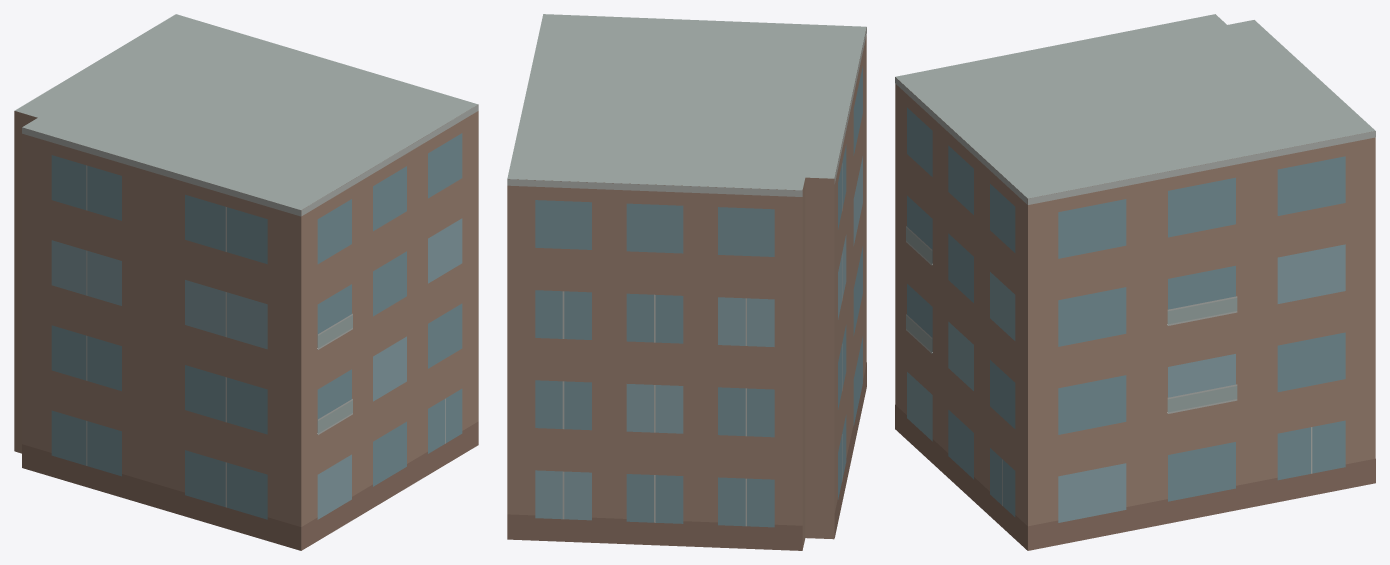
Rendered from survey-upis-32743976.glb.
3 renders of one model, left to right at view 1: azimuth 30°, elevation 25°; view 2: azimuth 150°, elevation 25°; view 3: azimuth 270°, elevation 25°, orthographic. The views are drawn at different scales.
Visible parts, largest first — view 1: survey-upis-32743976.tmp; view 2: survey-upis-32743976.tmp; view 3: survey-upis-32743976.tmp.
Boxes of the visible parts, <box> form: survey-upis-32743976.tmp: <box>14,14,478,550</box>; survey-upis-32743976.tmp: <box>507,14,866,550</box>; survey-upis-32743976.tmp: <box>895,14,1375,550</box>.
Bounding box in the file's own units: 14.79 × 13.15 × 16.27.
